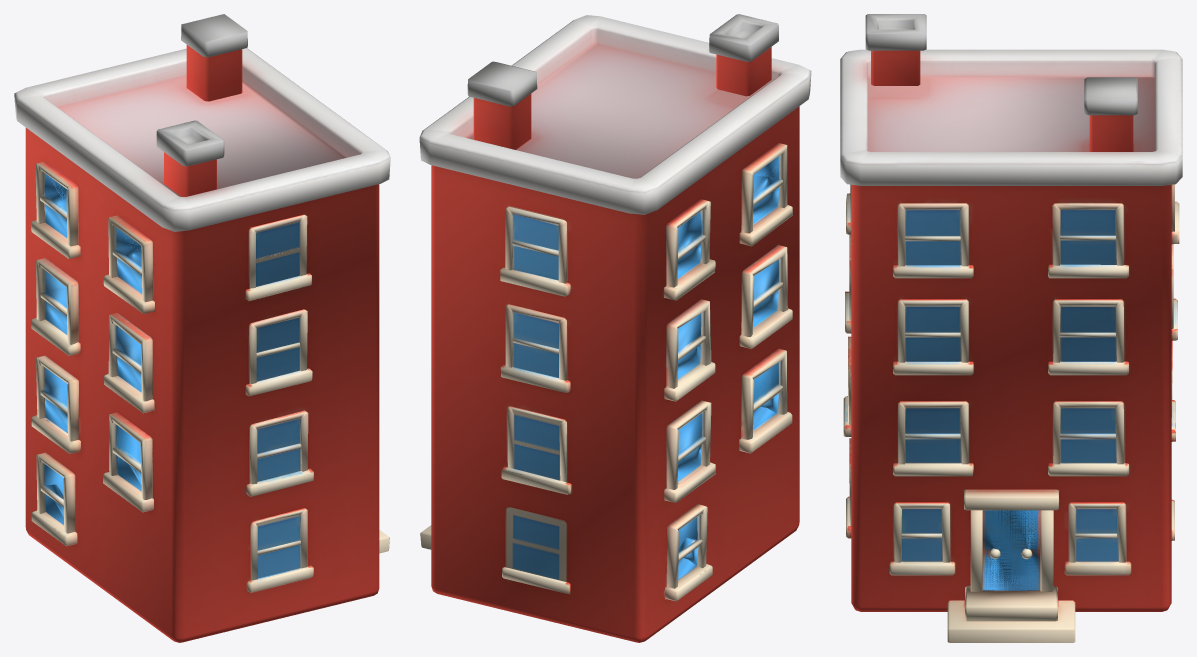
Rendered from apartment_v3.glb.
3 renders of one model, left to right at view 1: azimuth 30°, elevation 25°; view 2: azimuth 150°, elevation 25°; view 3: azimuth 270°, elevation 25°, orthographic. The views are drawn at different scales.
Parts seen in each view (by area): view 1: tripo_node_16fde212-30b2-4943-9312-9f0c839b0900; view 2: tripo_node_16fde212-30b2-4943-9312-9f0c839b0900; view 3: tripo_node_16fde212-30b2-4943-9312-9f0c839b0900.
Boxes of the visible parts, x1=… form: tripo_node_16fde212-30b2-4943-9312-9f0c839b0900: x1=14, y1=14, x2=390, y2=642; tripo_node_16fde212-30b2-4943-9312-9f0c839b0900: x1=419, y1=14, x2=811, y2=642; tripo_node_16fde212-30b2-4943-9312-9f0c839b0900: x1=840, y1=14, x2=1182, y2=642.
Size of the model in its own units: 0.584 by 0.998 by 0.6113.
1 material, 1 textured.
